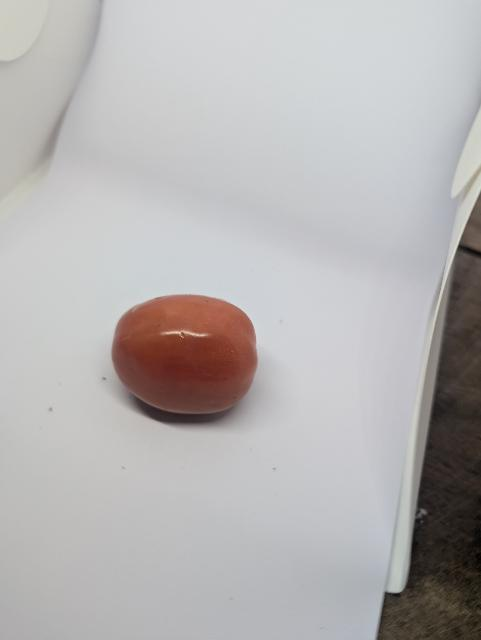red: (109, 291, 262, 417)
